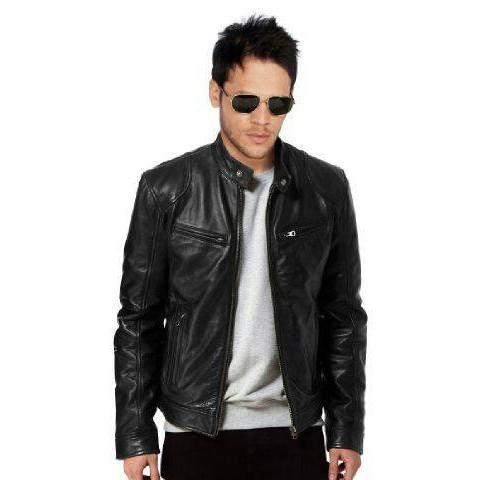jacket: (82, 138, 380, 466)
